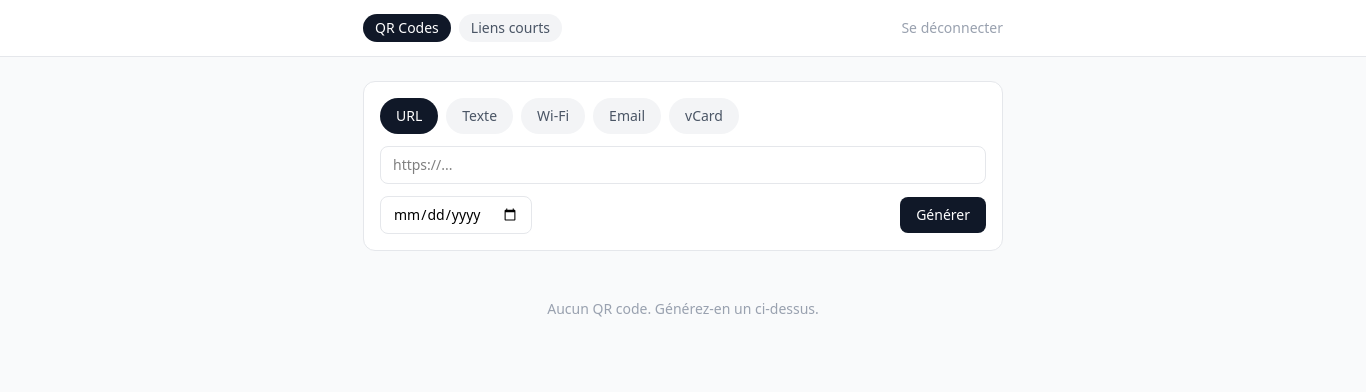
Test: LinksSection (url-shortener) › edit button should reveal inline URL input
Click the button with test id "tab-links" at (510,28), box [459,14,562,42]
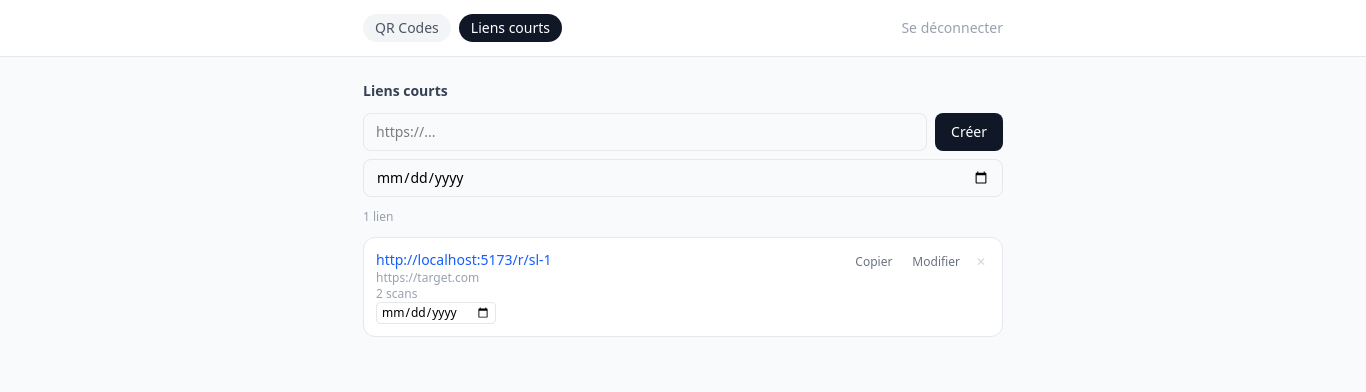
Click the button "Modifier" at (936,262), box [904,250,968,274]
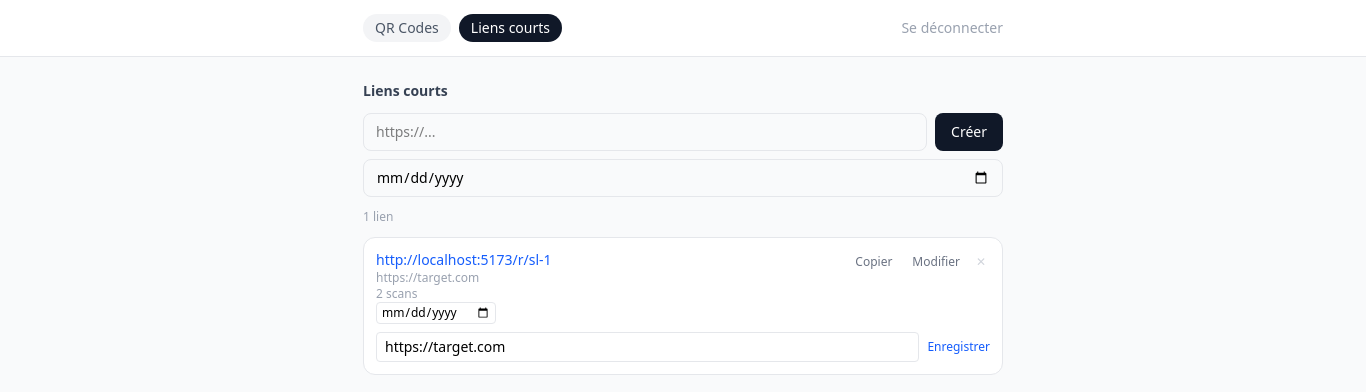
Now the field with test id "link-edit-input" is shown, box [376,332,919,362]
